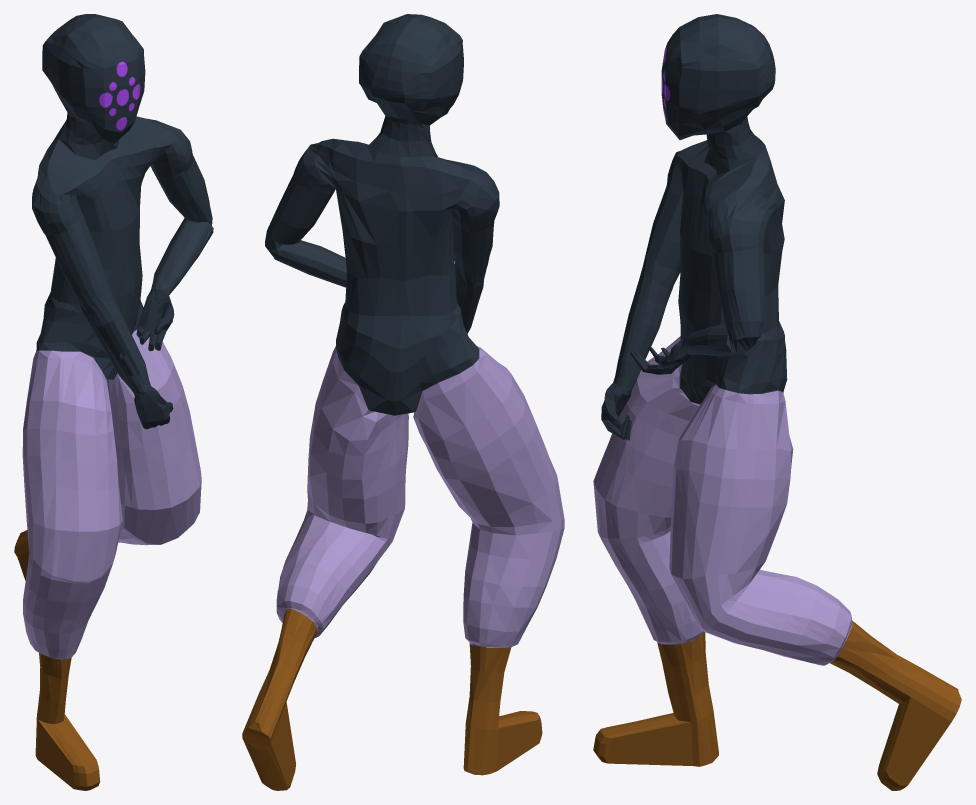
File: Oracle_Run_000018.obj
3 views of the same model, side by side, from view 1: azimuth 30°, elevation 25°; view 2: azimuth 150°, elevation 25°; view 3: azimuth 270°, elevation 25° (orthographic). The views are drawn at different scales.
Parts seen in each view (by area): view 1: Cube; view 2: Cube; view 3: Cube.
Boxes of the visible parts, <box> form: Cube: <box>14,14,213,790</box>; Cube: <box>242,14,564,790</box>; Cube: <box>593,14,961,790</box>.
Size of the model in its own units: 1.27 by 3.78 by 1.64.
